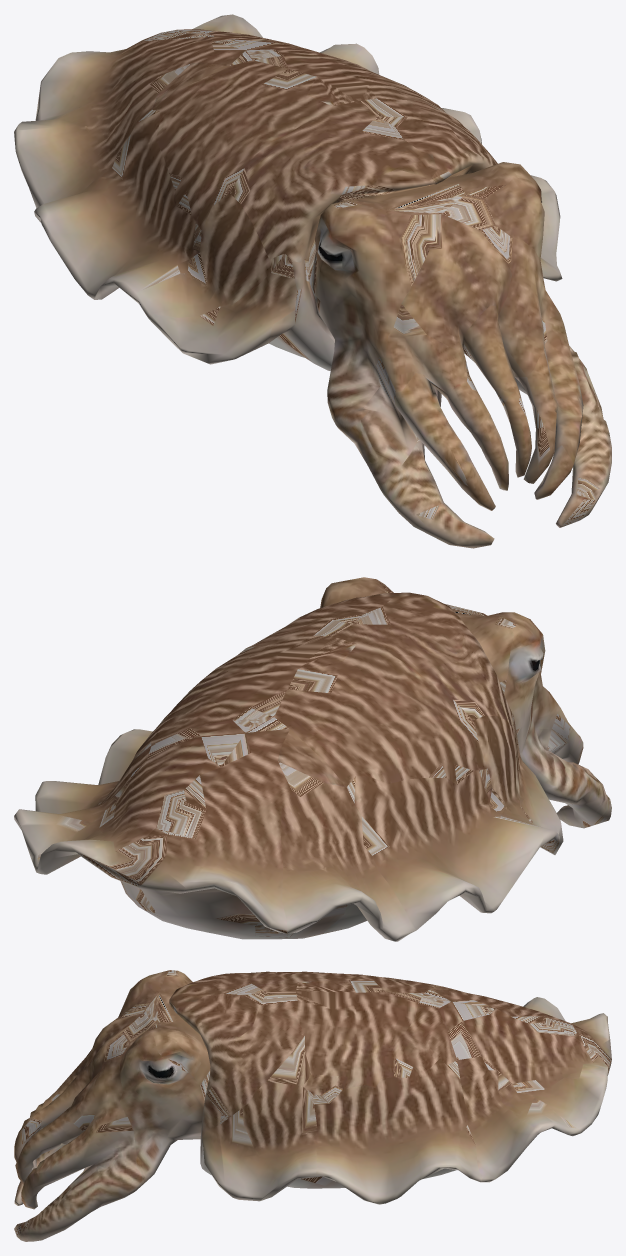
File: zeekat.glb
The picture shows the model from 3 angles, top to bottom: view 1: azimuth 30°, elevation 25°; view 2: azimuth 150°, elevation 25°; view 3: azimuth 270°, elevation 25°; orthographic projection. The views are drawn at different scales.
Parts seen in each view (by area): view 1: tripo_node_bc8fdc04-a2eb-4d98-8037-ee55e9c1eed4; view 2: tripo_node_bc8fdc04-a2eb-4d98-8037-ee55e9c1eed4; view 3: tripo_node_bc8fdc04-a2eb-4d98-8037-ee55e9c1eed4.
Boxes of the visible parts, x1,y1,x2,y2 form: tripo_node_bc8fdc04-a2eb-4d98-8037-ee55e9c1eed4: (14, 14, 611, 548); tripo_node_bc8fdc04-a2eb-4d98-8037-ee55e9c1eed4: (14, 577, 611, 941); tripo_node_bc8fdc04-a2eb-4d98-8037-ee55e9c1eed4: (14, 970, 611, 1241).
Bounding box in the file's own units: 0.7447 × 0.4979 × 1.16.
Materials: 1 (1 with a texture image).
